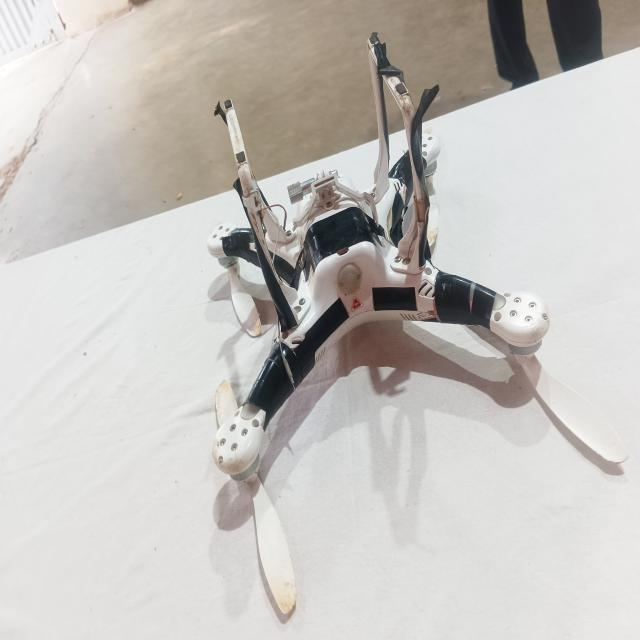drone: (203, 42, 563, 520)
